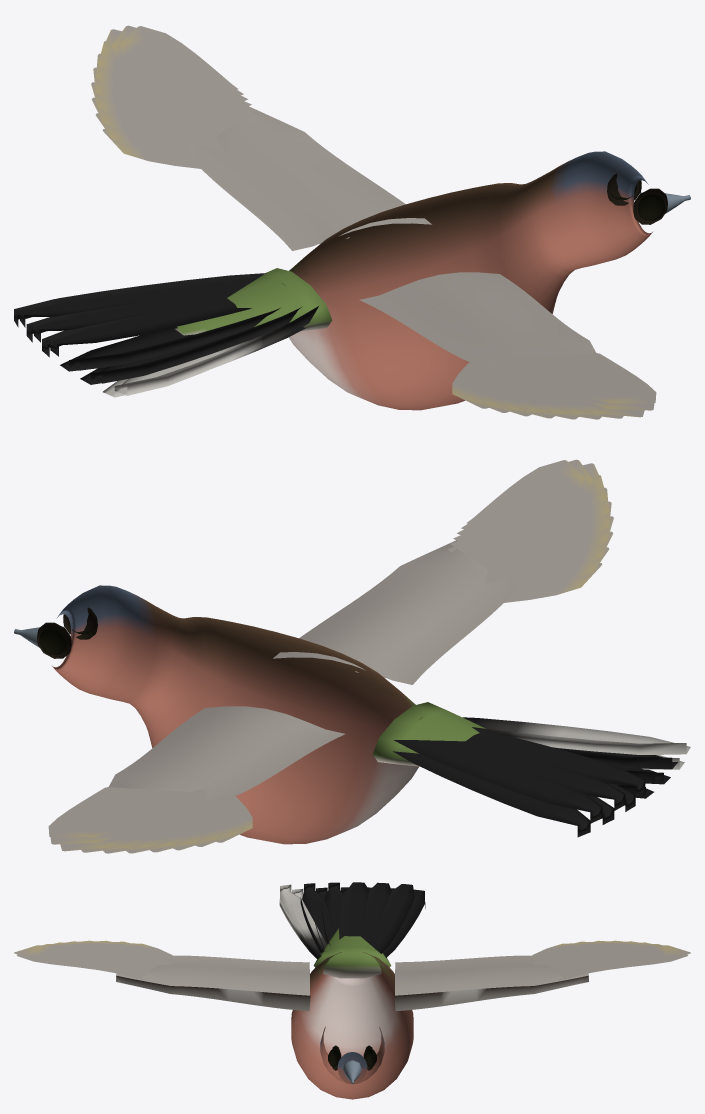
File: SM_Bird_chaffinch_glide.glb
The picture shows the model from 3 angles, top to bottom: view 1: azimuth 30°, elevation 25°; view 2: azimuth 150°, elevation 25°; view 3: azimuth 270°, elevation 25°; orthographic projection. The views are drawn at different scales.
Parts seen in each view (by area): view 1: SM_Bird_chaffinch_glide; view 2: SM_Bird_chaffinch_glide; view 3: SM_Bird_chaffinch_glide.
Boxes of the visible parts, x1,y1,x2,y2 form: SM_Bird_chaffinch_glide: (14,25,690,419); SM_Bird_chaffinch_glide: (14,459,690,853); SM_Bird_chaffinch_glide: (14,882,690,1099).
Size of the model in its own units: 0.1714 by 0.0533 by 0.2494.
